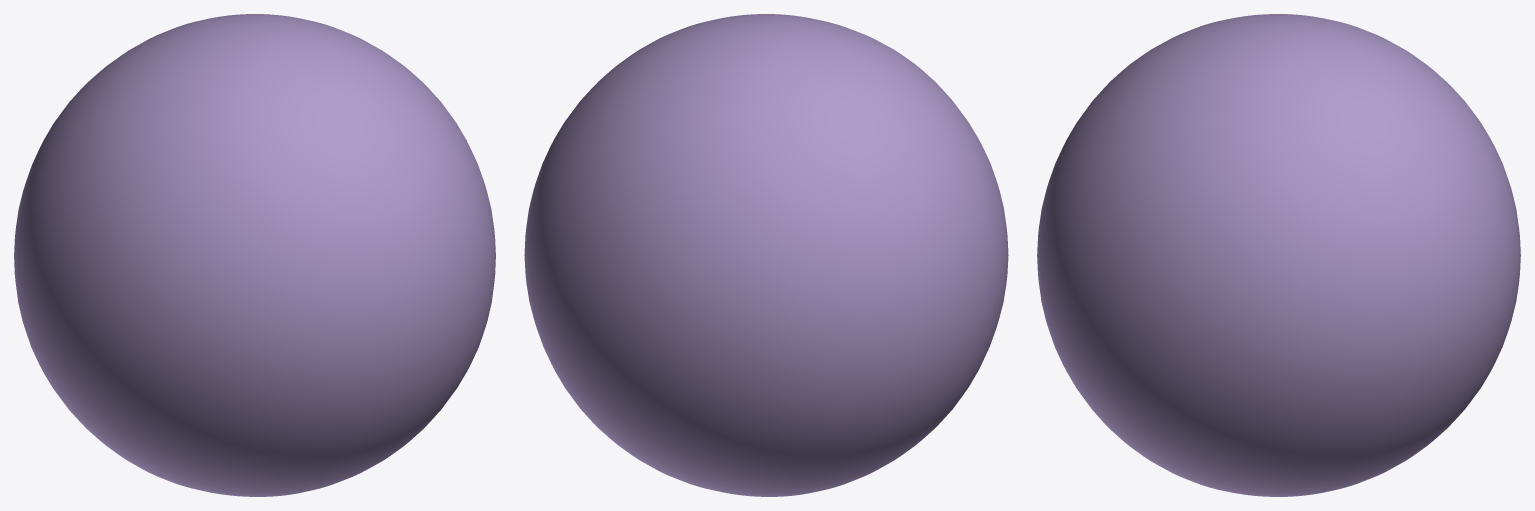
Rendered from animal-cell-shells.glb.
The picture shows the model from 3 angles, left to right: view 1: azimuth 30°, elevation 25°; view 2: azimuth 150°, elevation 25°; view 3: azimuth 270°, elevation 25°; orthographic projection.
Parts seen in each view (by area): view 1: membrane.001; view 2: membrane.001; view 3: membrane.001.
Part boxes in pixels (x1=…): membrane.001: x1=14, y1=14, x2=495, y2=496; membrane.001: x1=524, y1=14, x2=1008, y2=496; membrane.001: x1=1037, y1=14, x2=1520, y2=496.
Bounding box in the file's own units: 6 × 6 × 6.
